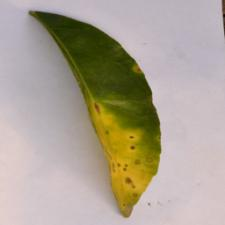Canker: (48, 35, 166, 208)
